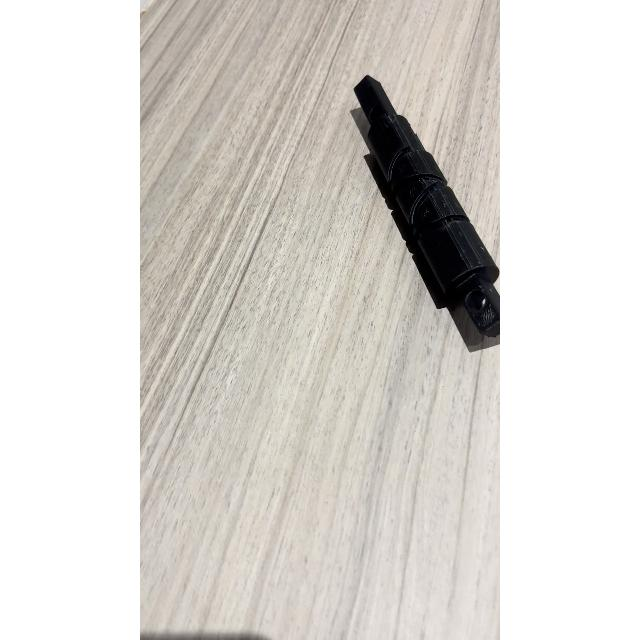Pieza_1: (348, 74, 499, 356)
